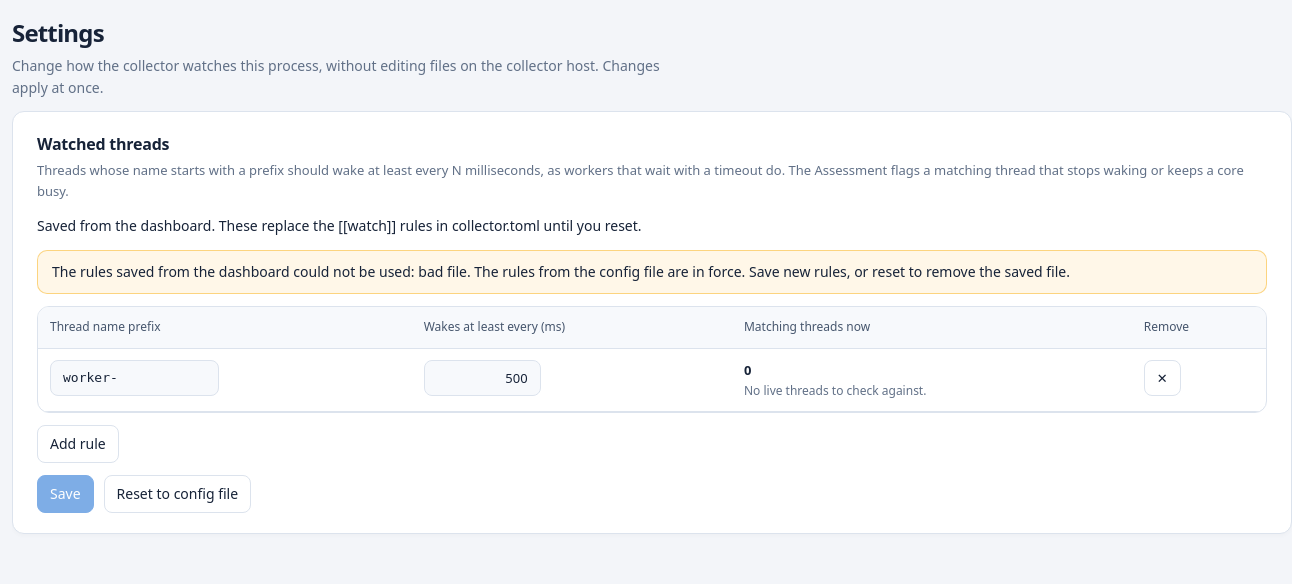
every visible element of the Settings section has registered help
Expected: the button "Save" is shown, top-left (37, 475), bottom-right (94, 513)
Replace the text in the field named "Wakes at least every (ms), rule 1" with "250". click: (482, 378)
box: top-left (424, 360), bottom-right (541, 396)
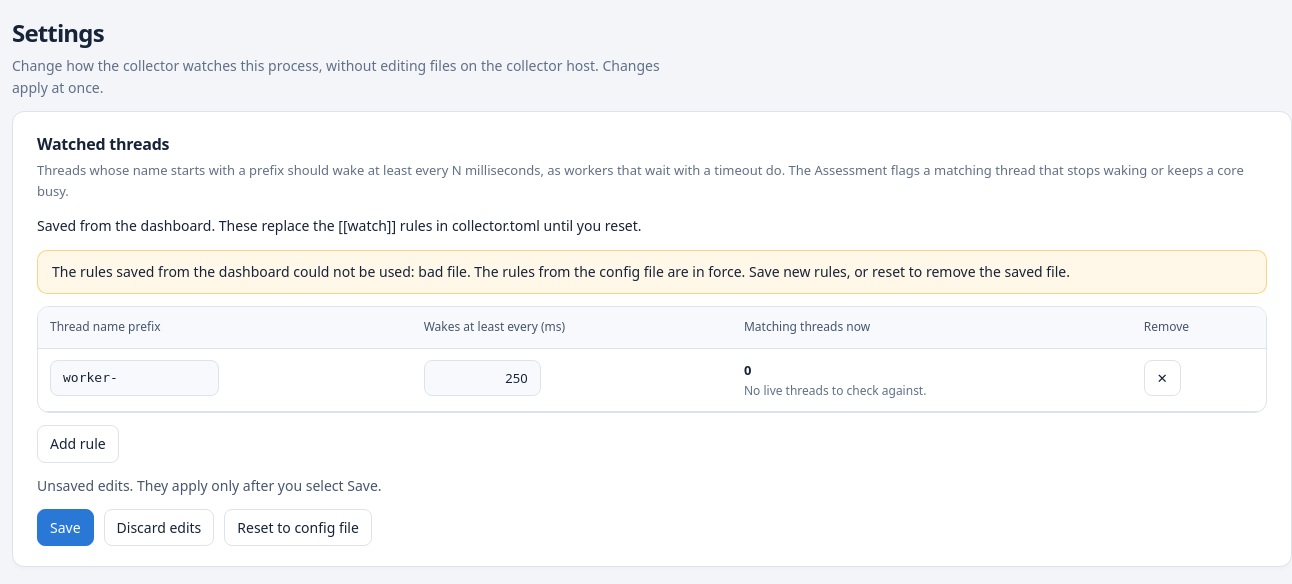
Click the button "Save". click: (65, 528)
box: top-left (37, 509), bottom-right (94, 546)
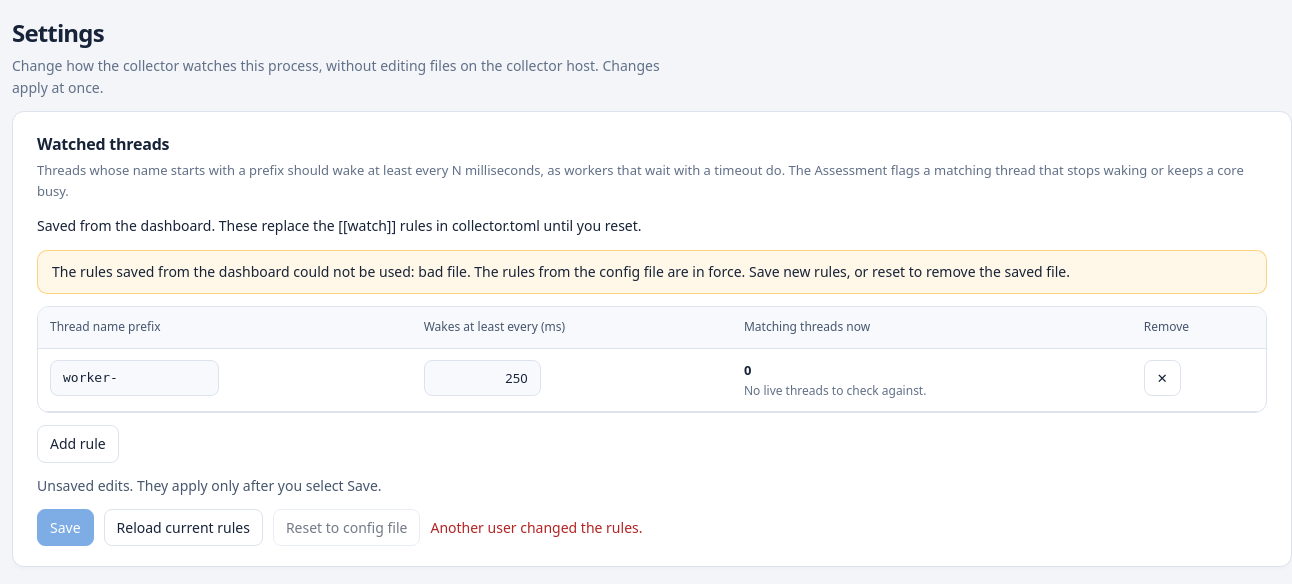
Now the element showing "Unsaved edits. They apply only after you select Save." is shown, box top-left (37, 476), bottom-right (382, 495)
Now the message with id "watch-status" shows "Another user", box top-left (430, 518), bottom-right (642, 537)
Now the element showing "Another user changed the rules." is shown, box top-left (430, 517), bottom-right (642, 538)
Click the button named "Remove rule 1". click: (1162, 378)
box: top-left (1144, 360), bottom-right (1181, 396)
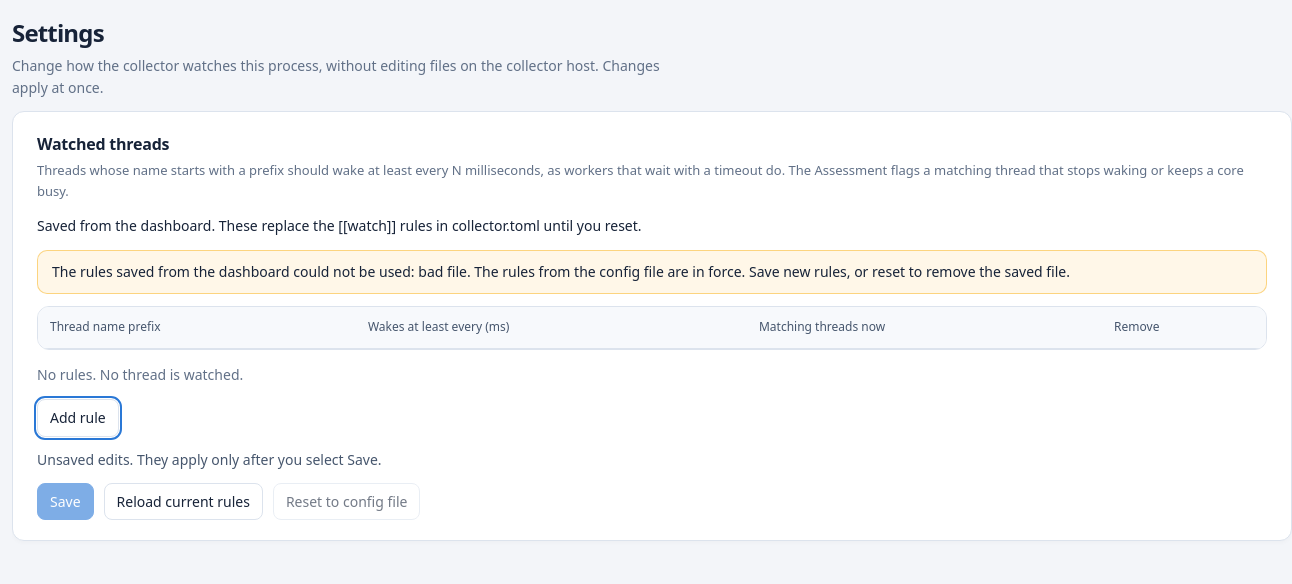
Now the element with id "watch-empty" is shown, box top-left (37, 365), bottom-right (243, 384)
